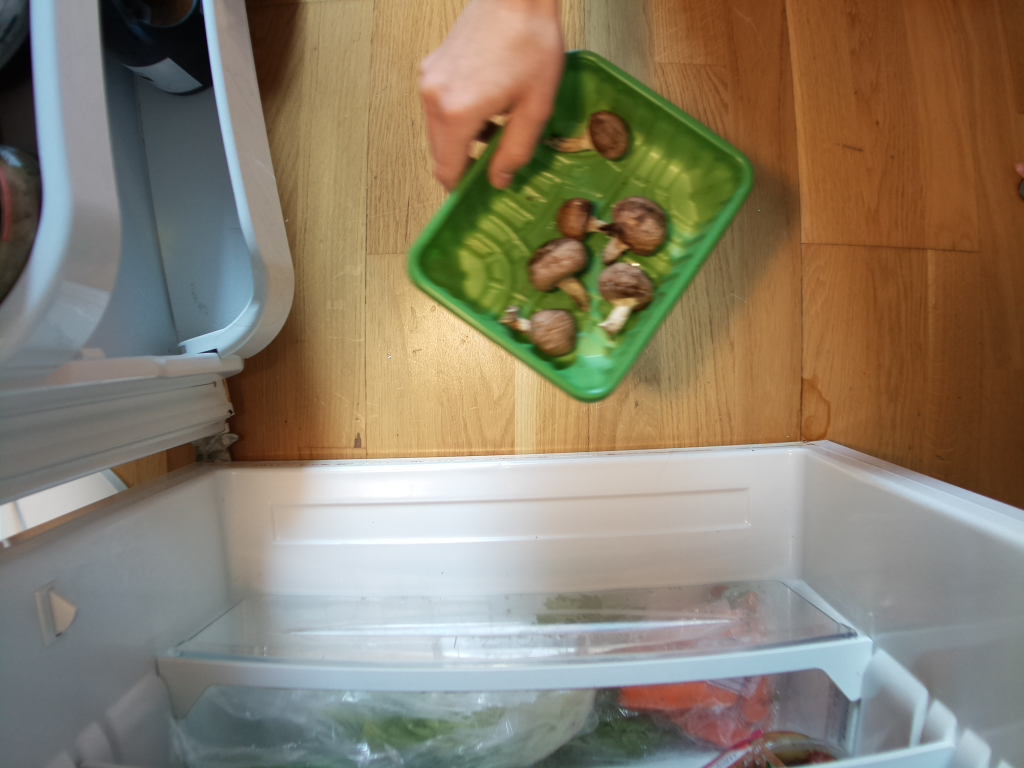mushrooms-bad: (411, 51, 750, 402)
